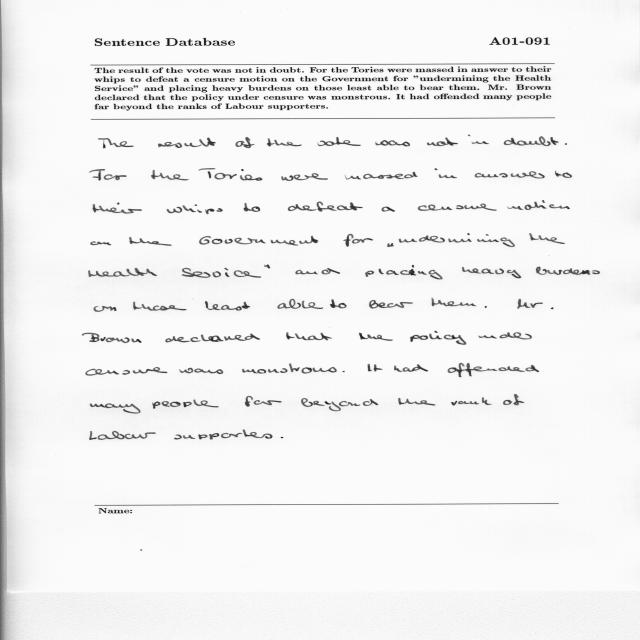word: (399, 233, 515, 247), (448, 363, 539, 377), (199, 236, 318, 246), (365, 265, 443, 279), (174, 429, 272, 440), (242, 363, 337, 374), (301, 398, 378, 411), (165, 334, 260, 343), (199, 168, 263, 181), (182, 268, 261, 278), (410, 331, 466, 345), (288, 202, 363, 212), (86, 367, 168, 376), (152, 399, 219, 409), (462, 267, 521, 278), (158, 137, 216, 148), (418, 203, 497, 211), (508, 200, 570, 210), (89, 268, 157, 277), (90, 431, 156, 440), (83, 333, 142, 343), (345, 172, 418, 180), (166, 205, 223, 215), (504, 136, 558, 146), (93, 203, 142, 214), (536, 267, 600, 275), (90, 404, 141, 414), (475, 172, 545, 179), (134, 302, 187, 311), (205, 301, 250, 311), (278, 299, 323, 309), (90, 169, 127, 181), (151, 170, 189, 181), (245, 396, 282, 407), (529, 233, 565, 244), (369, 300, 413, 309), (343, 234, 373, 247), (318, 137, 361, 146), (129, 237, 172, 246), (478, 333, 532, 340), (451, 397, 492, 406), (282, 173, 328, 181), (286, 333, 332, 341), (98, 138, 134, 148), (518, 299, 554, 309), (432, 298, 476, 306), (267, 138, 301, 147), (359, 333, 393, 341), (394, 364, 428, 372), (295, 268, 340, 274), (179, 368, 223, 374), (399, 398, 436, 405), (427, 138, 458, 146), (503, 395, 524, 406), (434, 168, 457, 178), (376, 140, 411, 146), (236, 137, 255, 148), (468, 135, 489, 144), (244, 203, 261, 212), (330, 300, 346, 309), (368, 364, 383, 372), (555, 171, 572, 178), (94, 306, 117, 311), (91, 242, 111, 246), (382, 207, 395, 212), (387, 243, 394, 247), (265, 265, 271, 268), (484, 306, 487, 308), (565, 143, 567, 145), (342, 371, 345, 372), (281, 437, 283, 438)
